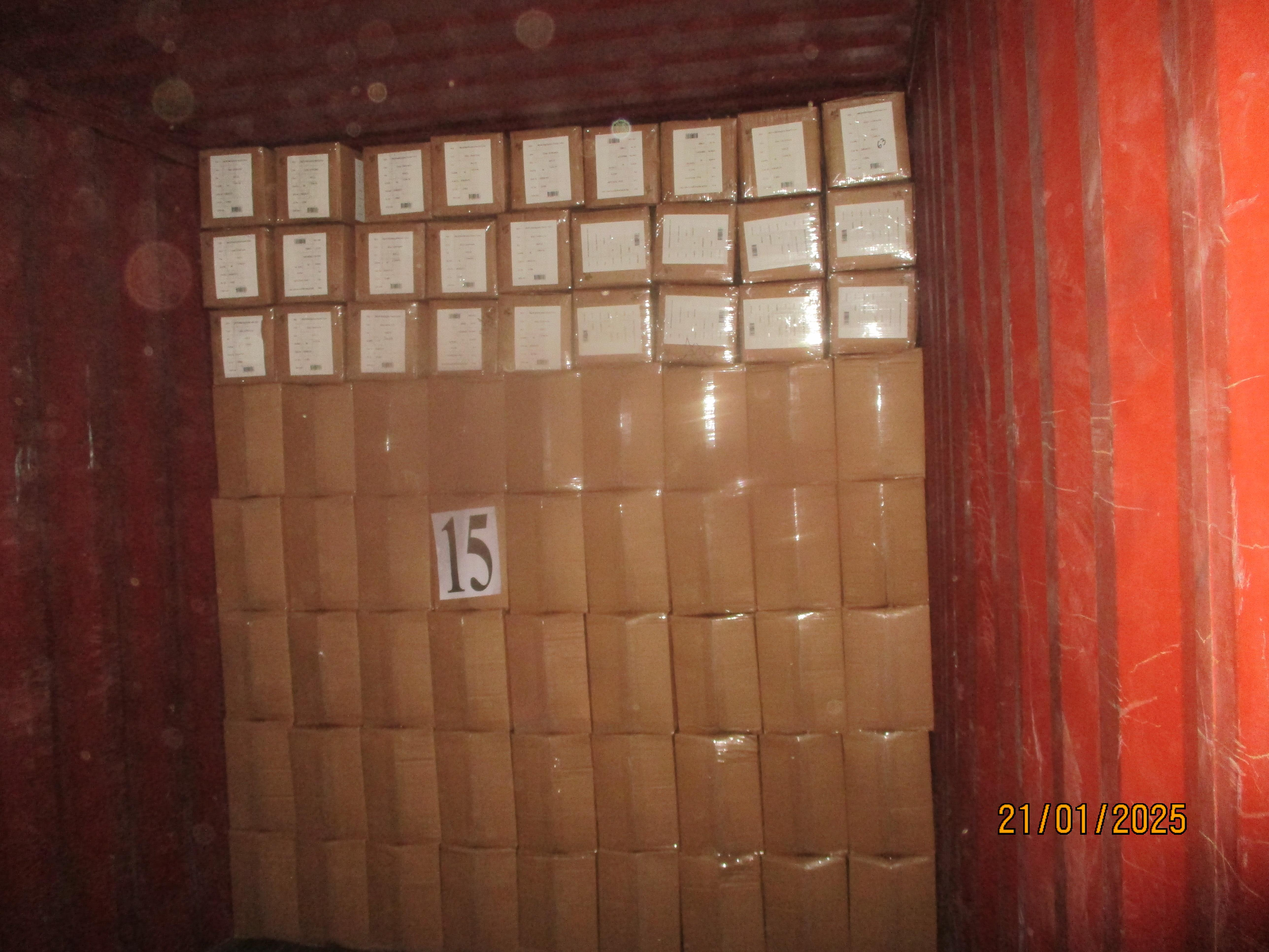carton: (661, 489, 755, 615), (749, 483, 841, 611), (837, 478, 927, 608), (842, 730, 934, 856), (834, 351, 924, 479), (842, 606, 934, 730), (754, 611, 846, 733), (746, 359, 835, 485), (662, 364, 751, 489), (669, 614, 761, 733), (585, 613, 675, 734), (759, 732, 847, 855), (581, 489, 669, 612), (674, 734, 763, 854), (581, 363, 665, 490), (504, 613, 590, 733), (591, 734, 678, 851), (511, 733, 596, 852), (506, 493, 587, 613), (429, 611, 510, 730), (504, 371, 583, 493), (435, 731, 516, 848), (430, 493, 510, 610), (427, 377, 507, 492), (354, 494, 432, 611), (360, 728, 439, 843), (281, 495, 358, 611), (358, 611, 434, 728), (290, 727, 367, 840), (353, 379, 429, 493), (822, 91, 911, 188), (678, 853, 765, 952), (848, 855, 936, 952), (761, 855, 849, 952), (597, 851, 681, 952), (212, 497, 287, 609), (281, 383, 356, 495), (288, 611, 361, 726), (439, 846, 518, 952), (218, 611, 293, 722), (366, 842, 443, 950), (517, 850, 598, 952), (736, 105, 823, 199), (825, 183, 916, 272), (228, 830, 300, 941), (213, 384, 284, 496), (224, 721, 295, 833), (736, 194, 824, 283), (297, 839, 369, 947), (827, 268, 917, 354), (737, 279, 827, 362), (652, 201, 736, 285), (569, 205, 653, 289), (274, 142, 359, 224), (572, 287, 655, 368), (655, 283, 738, 364), (345, 301, 429, 381), (659, 117, 738, 202), (430, 132, 508, 217), (583, 123, 661, 207), (274, 223, 355, 303), (510, 125, 585, 210), (198, 145, 275, 227), (199, 225, 276, 307), (496, 209, 571, 293), (497, 292, 572, 374), (425, 217, 497, 299), (354, 221, 427, 301), (360, 142, 432, 222), (273, 303, 345, 383), (424, 299, 498, 376), (209, 306, 277, 385)
